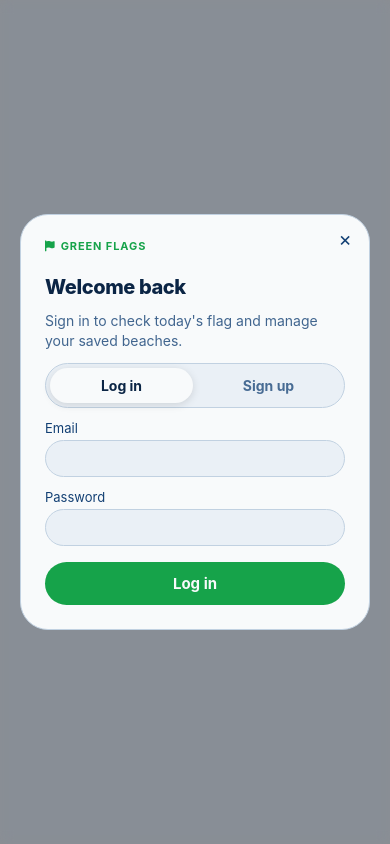
Test: AuthScreen › shows an error message when login fails
Type "diver@example.com" into the field named "Email" at (195, 458), box [45,440,345,477]
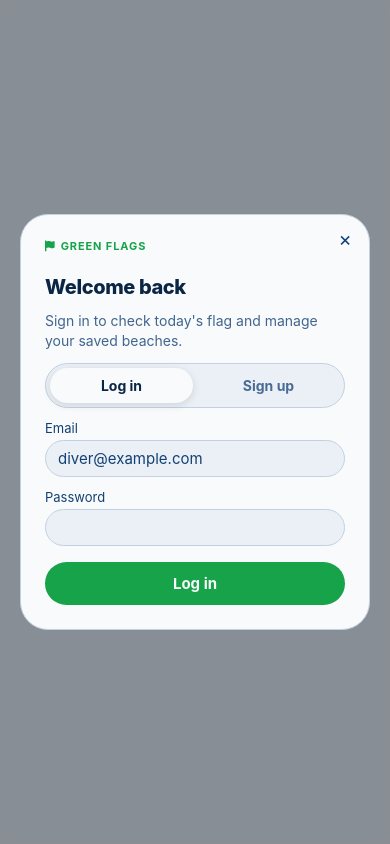
Type "wrongpass" into the password field named "Password" at (195, 528), box [45,509,345,546]
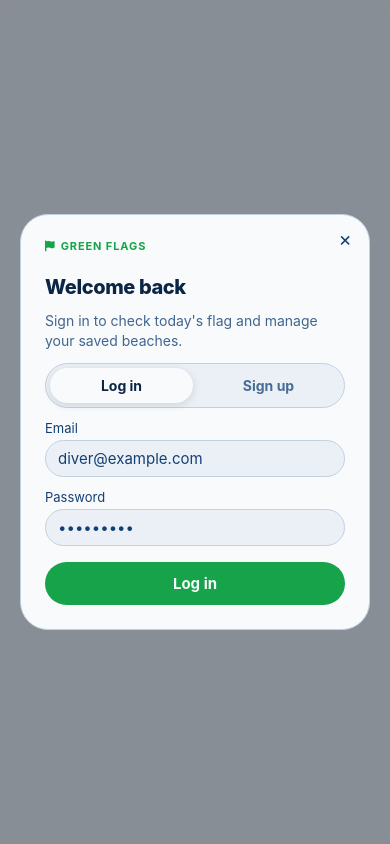
Click the button "Log in" at (195, 584), box [45,562,345,605]
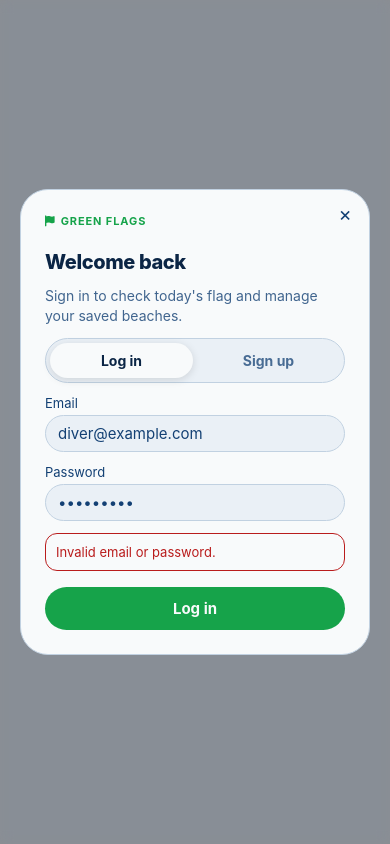
Now the text "Invalid email or password." is shown, box [56,544,216,560]
